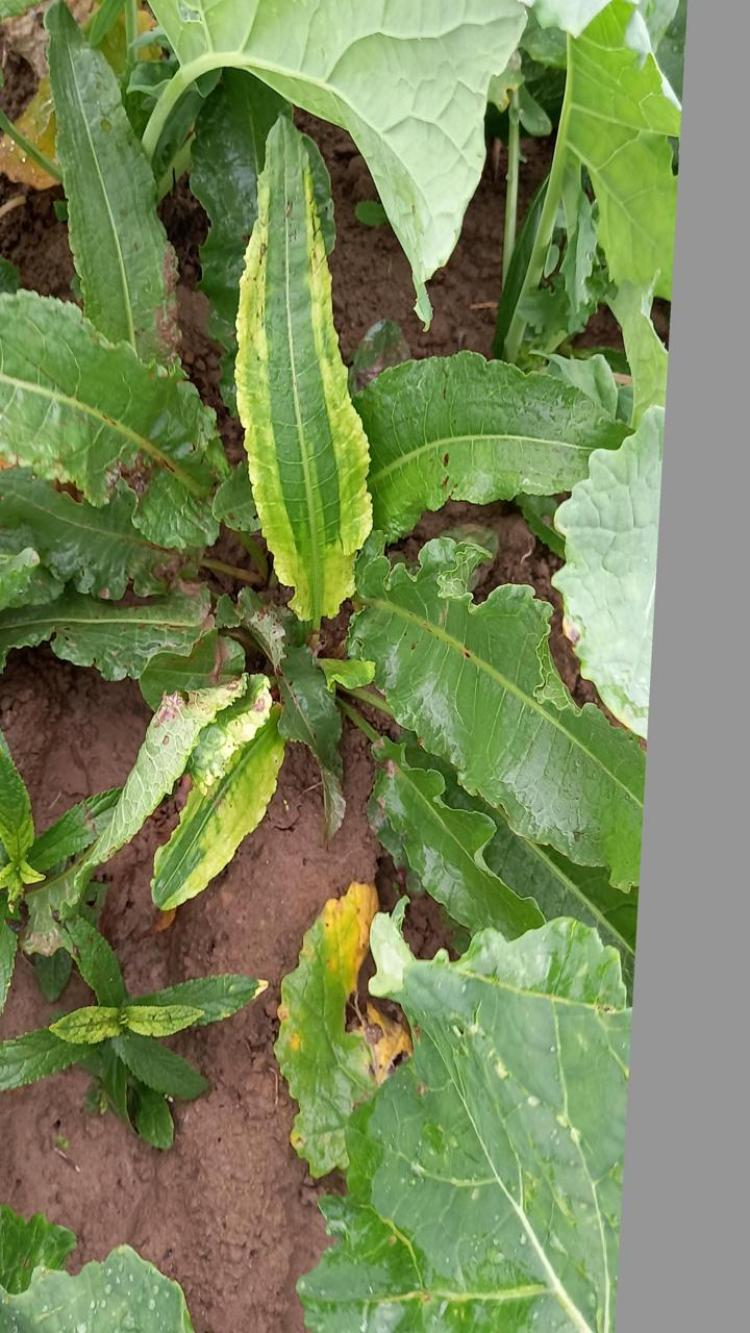zhavel: (0, 252, 667, 944)
